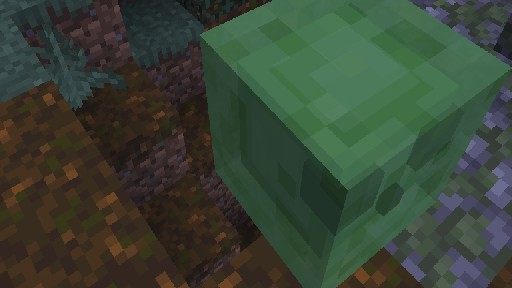slime: (198, 0, 512, 288)
